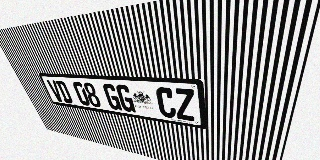0: (71, 81, 91, 106)
8: (82, 82, 102, 108)
C: (155, 87, 177, 119)
D: (55, 80, 74, 104)
G: (115, 84, 136, 113), (102, 83, 122, 111)
V: (46, 80, 65, 102)
Z: (174, 88, 196, 121)
